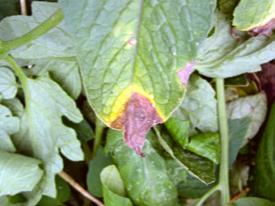Tomato Early blight leaf: (57, 0, 224, 160)
